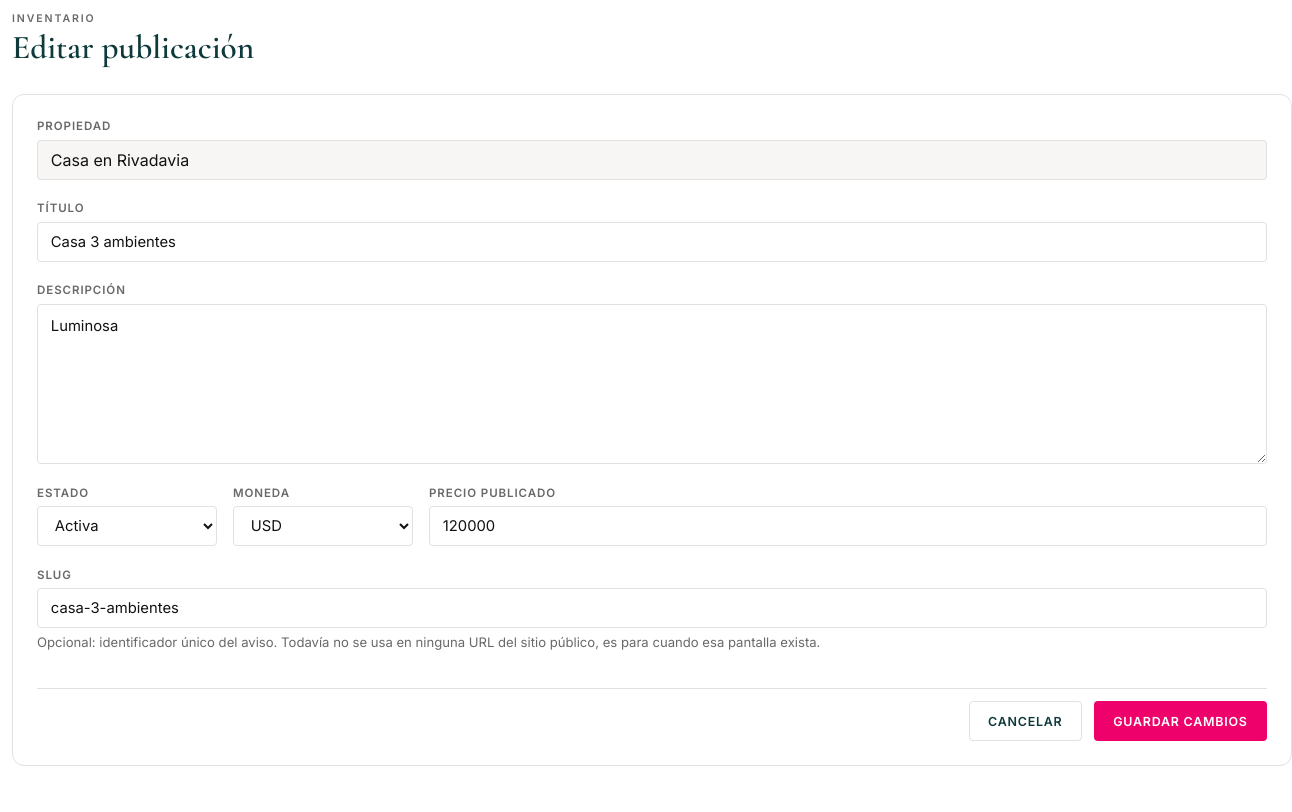
Scenario: muestra el error del backend sin cambiar de pantalla
expect the field showing "Casa 3 ambientes" is shown: met, box [37,222,1267,262]
What coordinates should you click on to do the following:
click the button "Guardar cambios"
I would click on:
 (1180, 721)
Its box is [1094,701,1267,741].
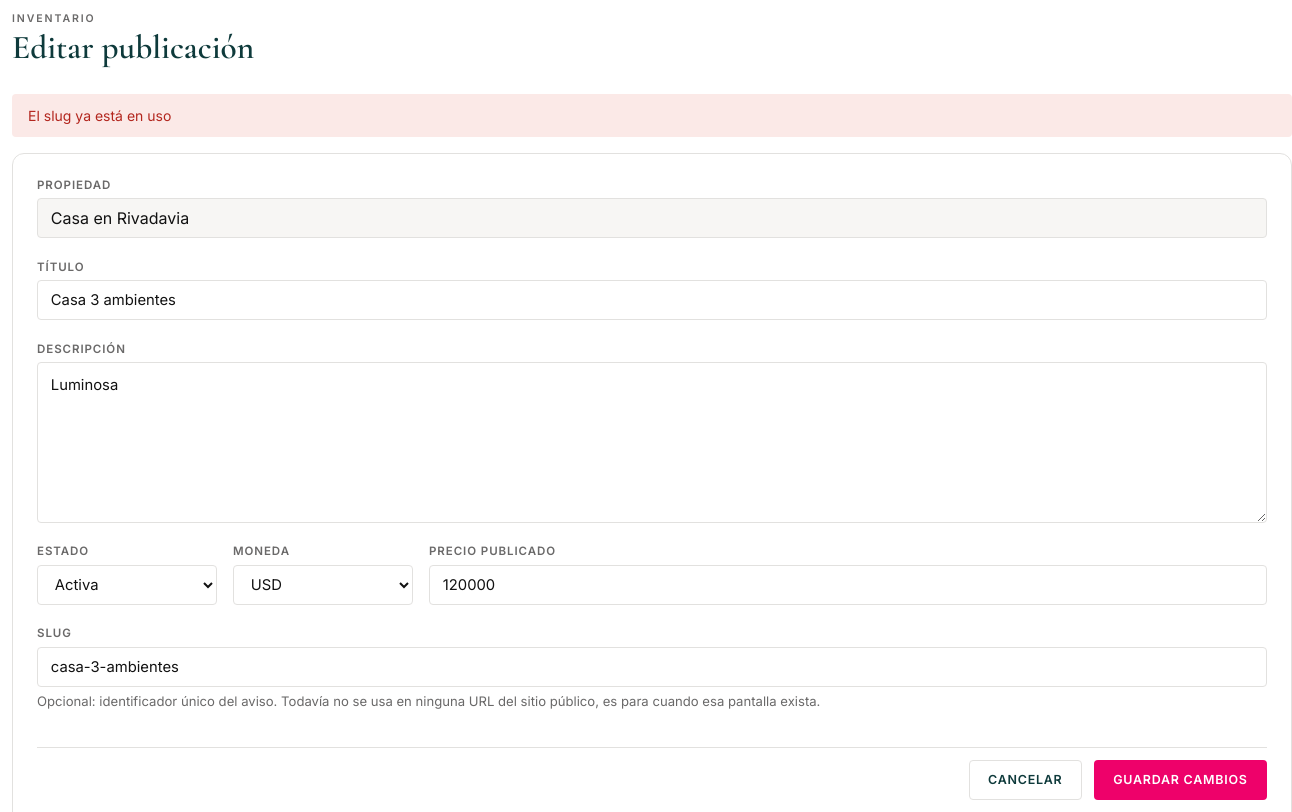
expect the text "El slug ya está en uso" is shown: met, box [12,94,1291,137]
